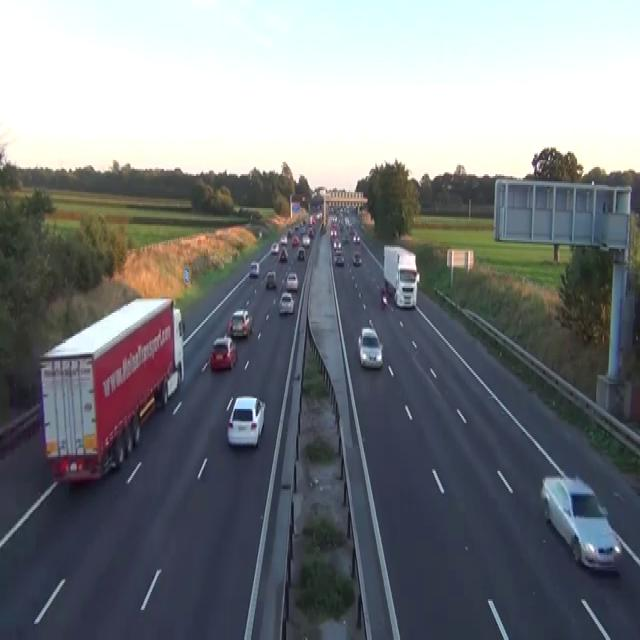Car: (540, 473, 622, 572), (225, 395, 265, 448), (357, 325, 383, 368), (209, 336, 237, 370), (228, 309, 252, 338), (278, 292, 294, 314), (285, 272, 298, 290), (265, 270, 276, 288), (249, 262, 259, 278), (380, 286, 387, 308), (352, 251, 362, 265), (334, 252, 344, 266), (279, 247, 288, 261), (301, 233, 310, 247), (297, 246, 305, 260), (270, 242, 279, 254), (333, 240, 341, 251), (279, 235, 287, 245), (352, 233, 360, 243), (292, 235, 299, 245), (307, 226, 314, 236), (315, 210, 322, 220), (368, 318, 374, 329), (320, 222, 325, 235), (330, 228, 337, 236), (342, 236, 349, 244), (344, 215, 349, 226), (310, 215, 316, 224), (287, 228, 292, 236), (294, 224, 299, 231), (258, 230, 262, 238)
Truck: (38, 295, 184, 485), (383, 244, 419, 308)
